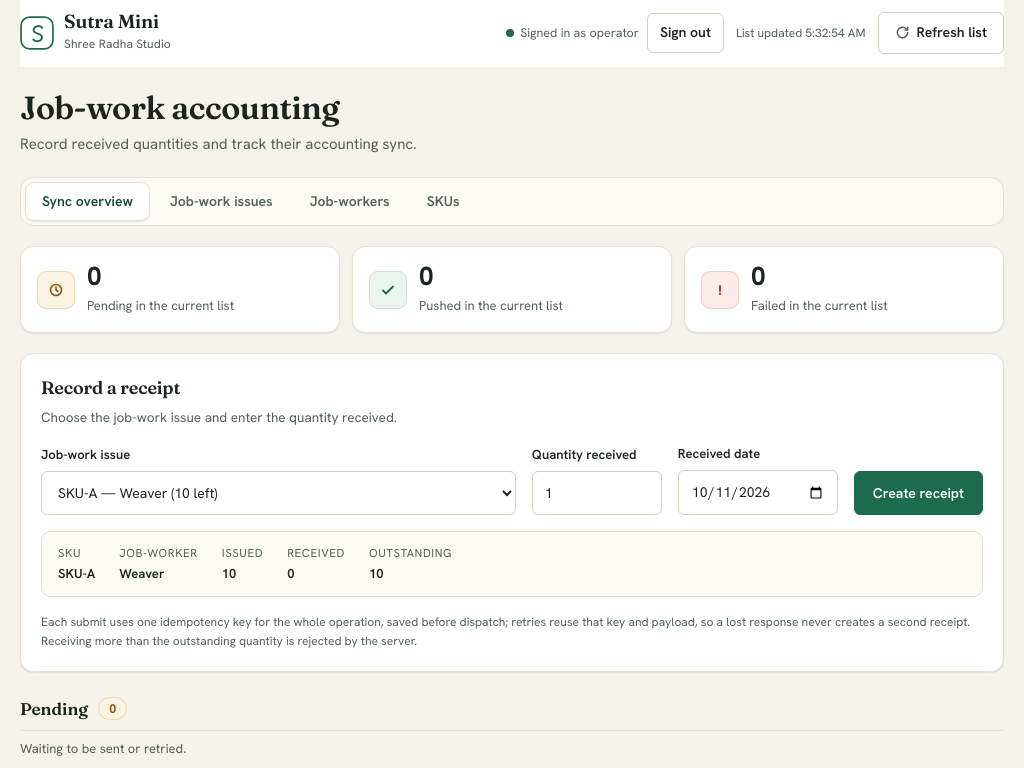
Test: SyncPage receipt reliability › does not treat a malformed HTTP 201 as success
Click the button "Create receipt": {"x": 918, "y": 493} [854,471,983,515]
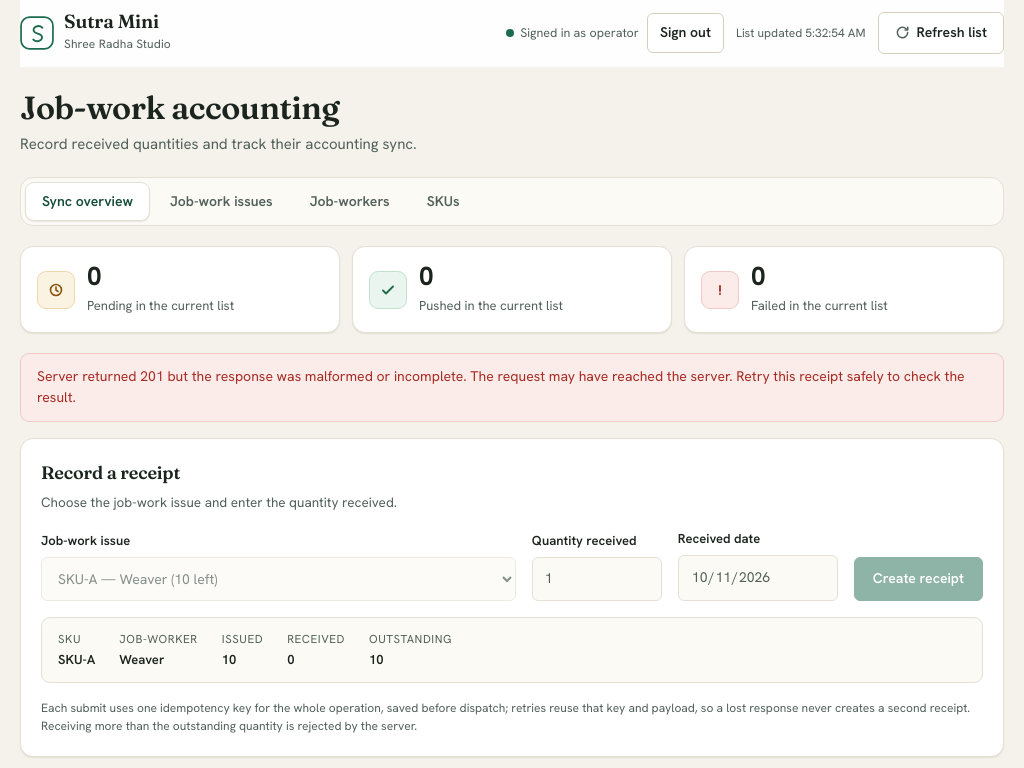
Expected: the text "malformed or incomplete" is shown, [37,367,965,406]
